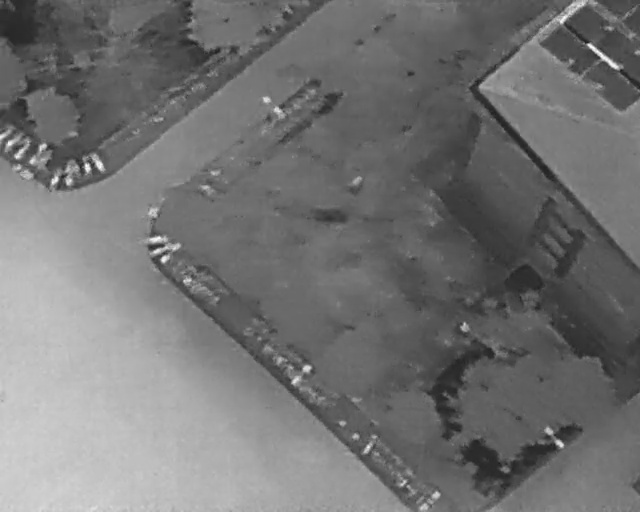Bicycle: (10, 135, 36, 162), (146, 240, 182, 259), (1, 128, 24, 153), (78, 153, 94, 177), (90, 152, 107, 174), (145, 236, 170, 244)
